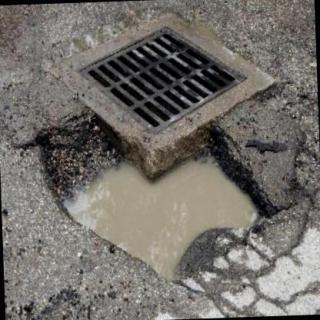pothole: (35, 108, 282, 282)
